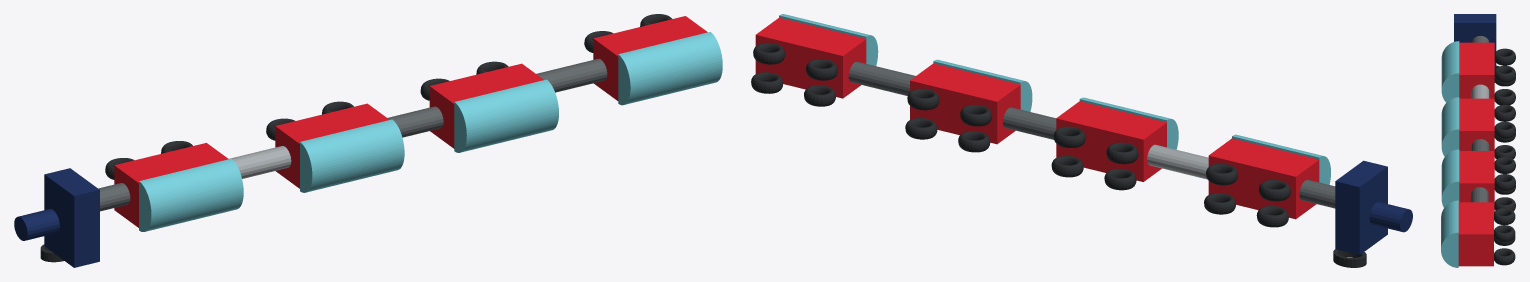
Rendered from tinker.obj.
3 views of the same model, side by side, from view 1: azimuth 30°, elevation 25°; view 2: azimuth 150°, elevation 25°; view 3: azimuth 270°, elevation 25° (orthographic). The views are drawn at different scales.
Parts seen in each view (by area): view 1: group_0_7720667, group_0_15277357, group_0_1650274, group_0_6383466, group_0_2829873, group_0_10988977; view 2: group_0_15277357, group_0_2829873, group_0_1650274, group_0_6383466, group_0_7720667, group_0_10988977; view 3: group_0_15277357, group_0_2829873, group_0_7720667, group_0_1650274, group_0_6383466, group_0_10988977.
Part boxes in pixels (box(x1,y1,x2,y2)): group_0_7720667: box(139, 32, 722, 231); group_0_15277357: box(114, 16, 707, 227); group_0_1650274: box(14, 168, 99, 267); group_0_6383466: box(98, 58, 607, 211); group_0_2829873: box(40, 14, 671, 262); group_0_10988977: box(229, 146, 291, 178); group_0_15277357: box(755, 17, 1319, 219); group_0_2829873: box(751, 43, 1366, 267); group_0_1650274: box(1335, 160, 1412, 254); group_0_6383466: box(848, 61, 1335, 208); group_0_7720667: box(779, 14, 1330, 184); group_0_10988977: box(1147, 144, 1208, 179); group_0_15277357: box(1458, 42, 1494, 266); group_0_2829873: box(1494, 48, 1515, 265); group_0_7720667: box(1441, 41, 1459, 267); group_0_1650274: box(1454, 14, 1496, 69); group_0_6383466: box(1471, 36, 1489, 202); group_0_10988977: box(1471, 84, 1489, 98).
Size of the model in its own units: 315 by 39.63 by 42.34.
